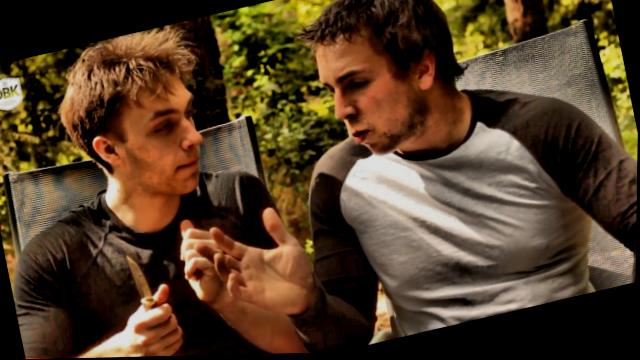knife: (101, 235, 187, 343)
